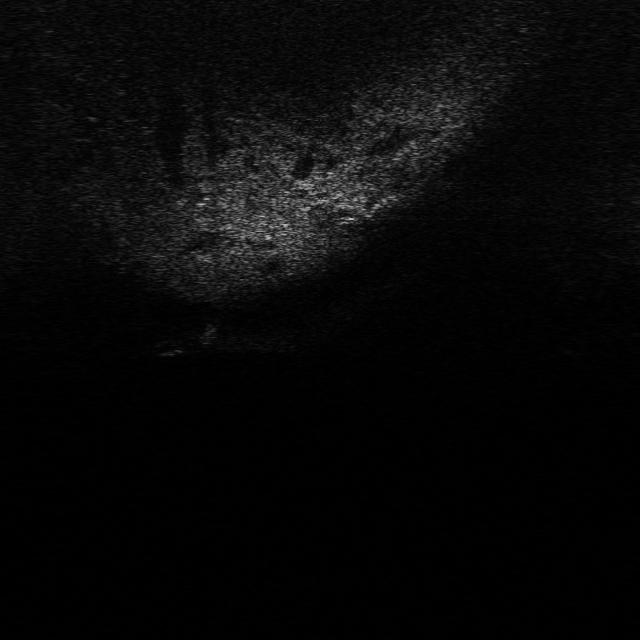cube: (148, 336, 187, 358)
cylinder: (196, 317, 220, 346)
